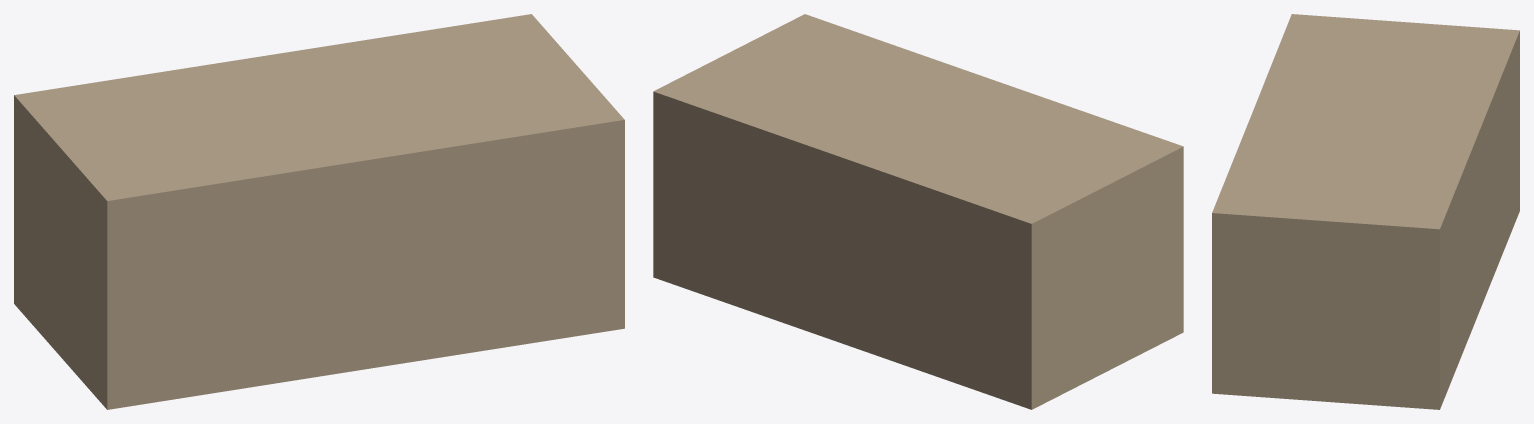
The model's file is bld_100469573.dae.
The picture shows the model from 3 angles, left to right: view 1: azimuth 30°, elevation 25°; view 2: azimuth 150°, elevation 25°; view 3: azimuth 270°, elevation 25°; orthographic projection. The views are drawn at different scales.
Parts seen in each view (by area): view 1: bld_100469573; view 2: bld_100469573; view 3: bld_100469573.
Part boxes in pixels (<box>): bld_100469573: <box>14,14,624,409</box>; bld_100469573: <box>653,14,1183,409</box>; bld_100469573: <box>1212,14,1519,409</box>.
Size of the model in its own units: 20.45 by 12.36 by 8.
